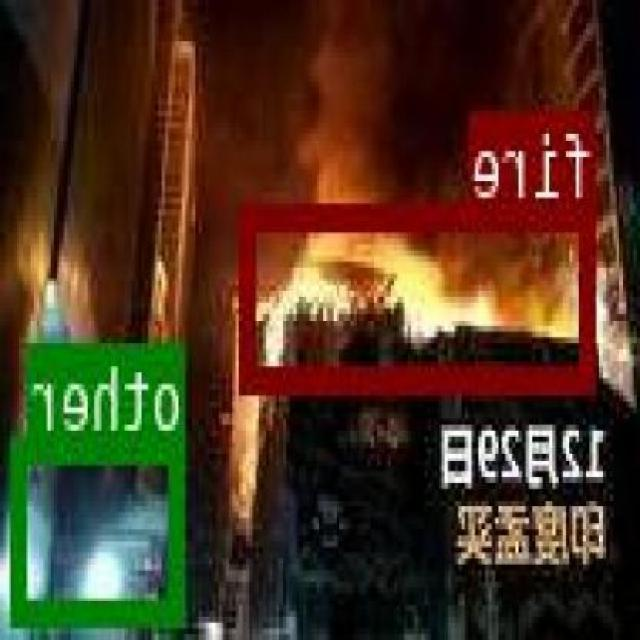Fire: (243, 204, 599, 386)
